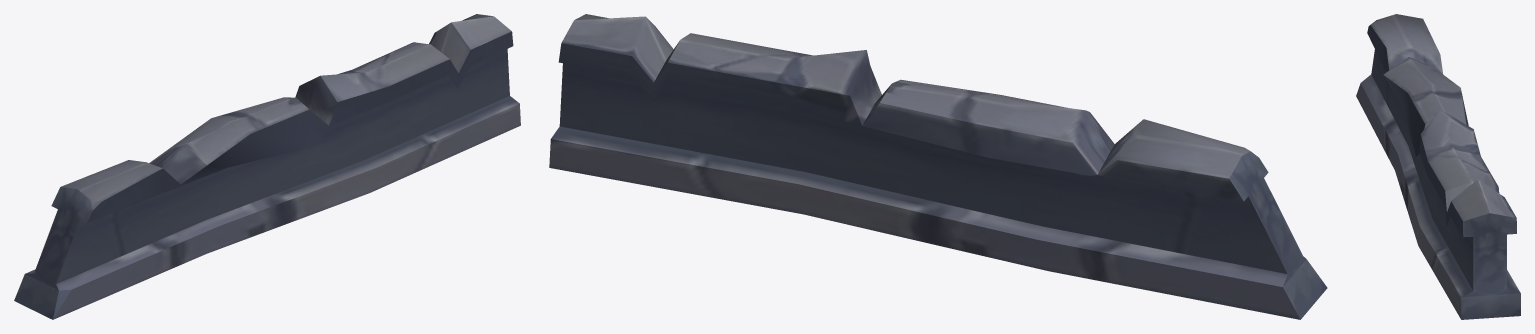
The model's file is Beidaying_posui02.FBX.
3 renders of one model, left to right at view 1: azimuth 30°, elevation 25°; view 2: azimuth 150°, elevation 25°; view 3: azimuth 270°, elevation 25°, orthographic. The views are drawn at different scales.
Parts seen in each view (by area): view 1: Beidaying_posui02; view 2: Beidaying_posui02; view 3: Beidaying_posui02.
Boxes of the visible parts, x1,y1,x2,y2 form: Beidaying_posui02: (14,14,520,319); Beidaying_posui02: (549,14,1327,319); Beidaying_posui02: (1356,14,1520,319).
Bounding box in the file's own units: 169 × 46.06 × 43.02.
